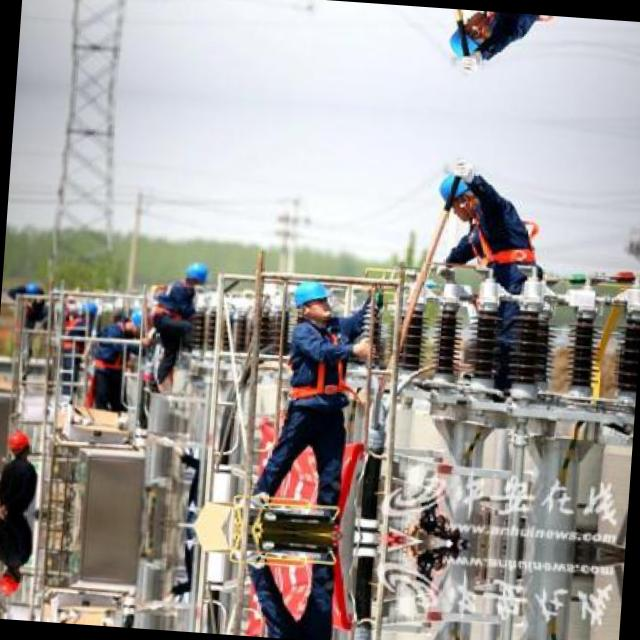helmet: (436, 164, 484, 227), (448, 8, 496, 68), (288, 275, 336, 324), (2, 428, 36, 461), (180, 259, 210, 292), (127, 304, 152, 339), (0, 563, 27, 595)
